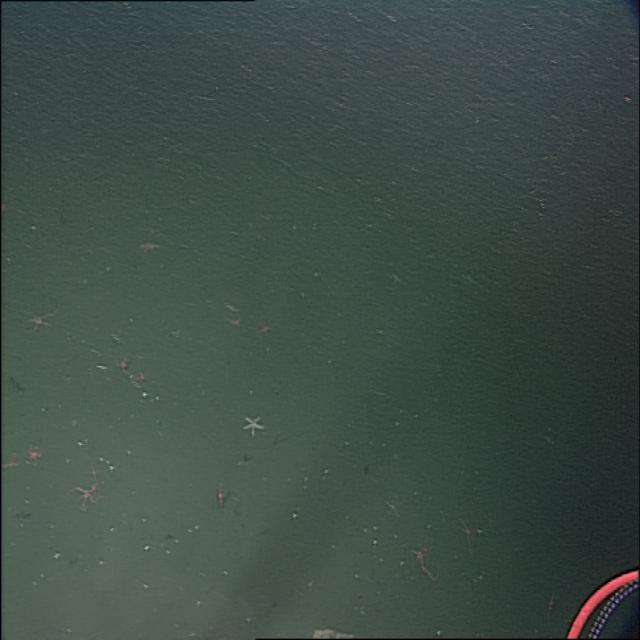Brittle Star: (69, 467, 104, 515), (27, 300, 59, 337), (27, 438, 46, 472)
Not Brittle Star: (240, 411, 266, 438)
